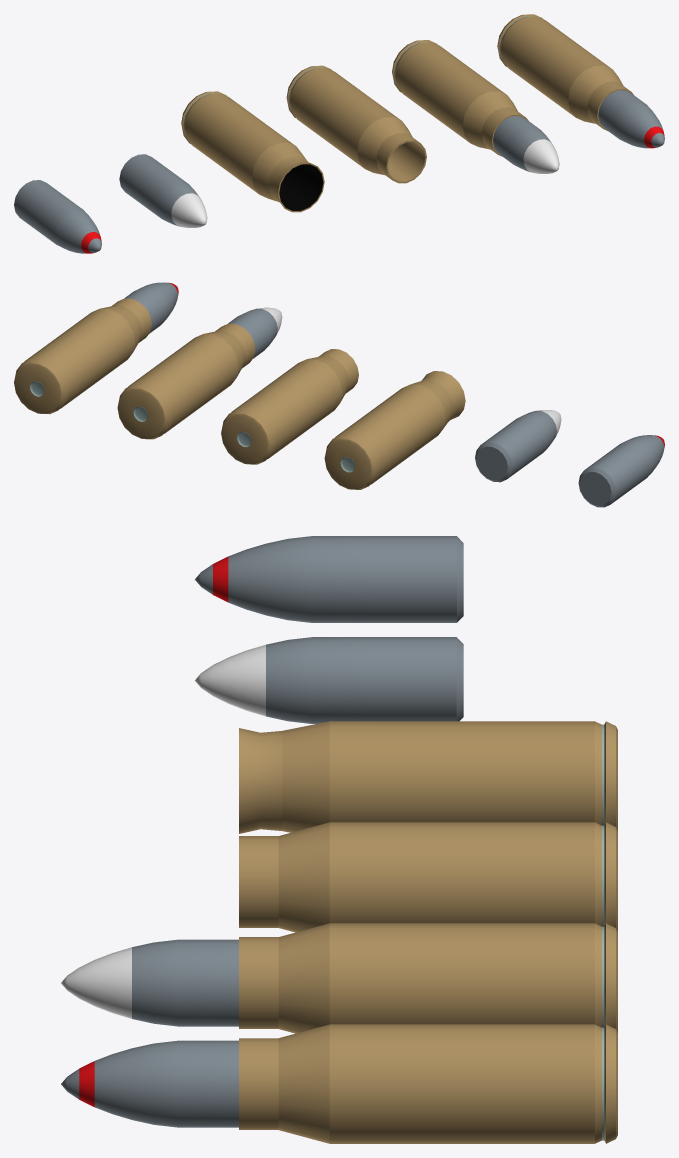
Rendered from Ammunition.fbx.
3 views of the same model, one above another, from view 1: azimuth 30°, elevation 25°; view 2: azimuth 150°, elevation 25°; view 3: azimuth 270°, elevation 25° (orthographic). The views are drawn at different scales.
Visible parts, largest first — view 1: Explosive Bullet Full, Standard Bullet Full, Casing Spent, Casing, Standard Bullet, Explosive Bullet; view 2: Explosive Bullet Full, Standard Bullet Full, Casing Spent, Casing, Explosive Bullet, Standard Bullet; view 3: Explosive Bullet Full, Standard Bullet Full, Casing Spent, Casing, Explosive Bullet, Standard Bullet.
Part boxes in pixels (box(x1,y1,x2,y2)): Explosive Bullet Full: box(497, 14, 664, 148); Standard Bullet Full: box(392, 40, 559, 173); Casing Spent: box(181, 91, 324, 212); Casing: box(286, 65, 426, 183); Standard Bullet: box(119, 154, 207, 227); Explosive Bullet: box(14, 180, 101, 253); Explosive Bullet Full: box(14, 282, 178, 414); Standard Bullet Full: box(117, 307, 282, 439); Casing Spent: box(324, 371, 465, 489); Casing: box(221, 349, 358, 464); Explosive Bullet: box(578, 435, 664, 507); Standard Bullet: box(475, 410, 561, 482); Explosive Bullet Full: box(61, 1024, 617, 1143); Standard Bullet Full: box(61, 923, 617, 1033); Casing Spent: box(239, 721, 617, 833); Casing: box(239, 822, 617, 932); Explosive Bullet: box(195, 536, 463, 622); Standard Bullet: box(195, 637, 463, 723).
Bounding box in the file's own units: 10.9 × 1 × 4.66.
